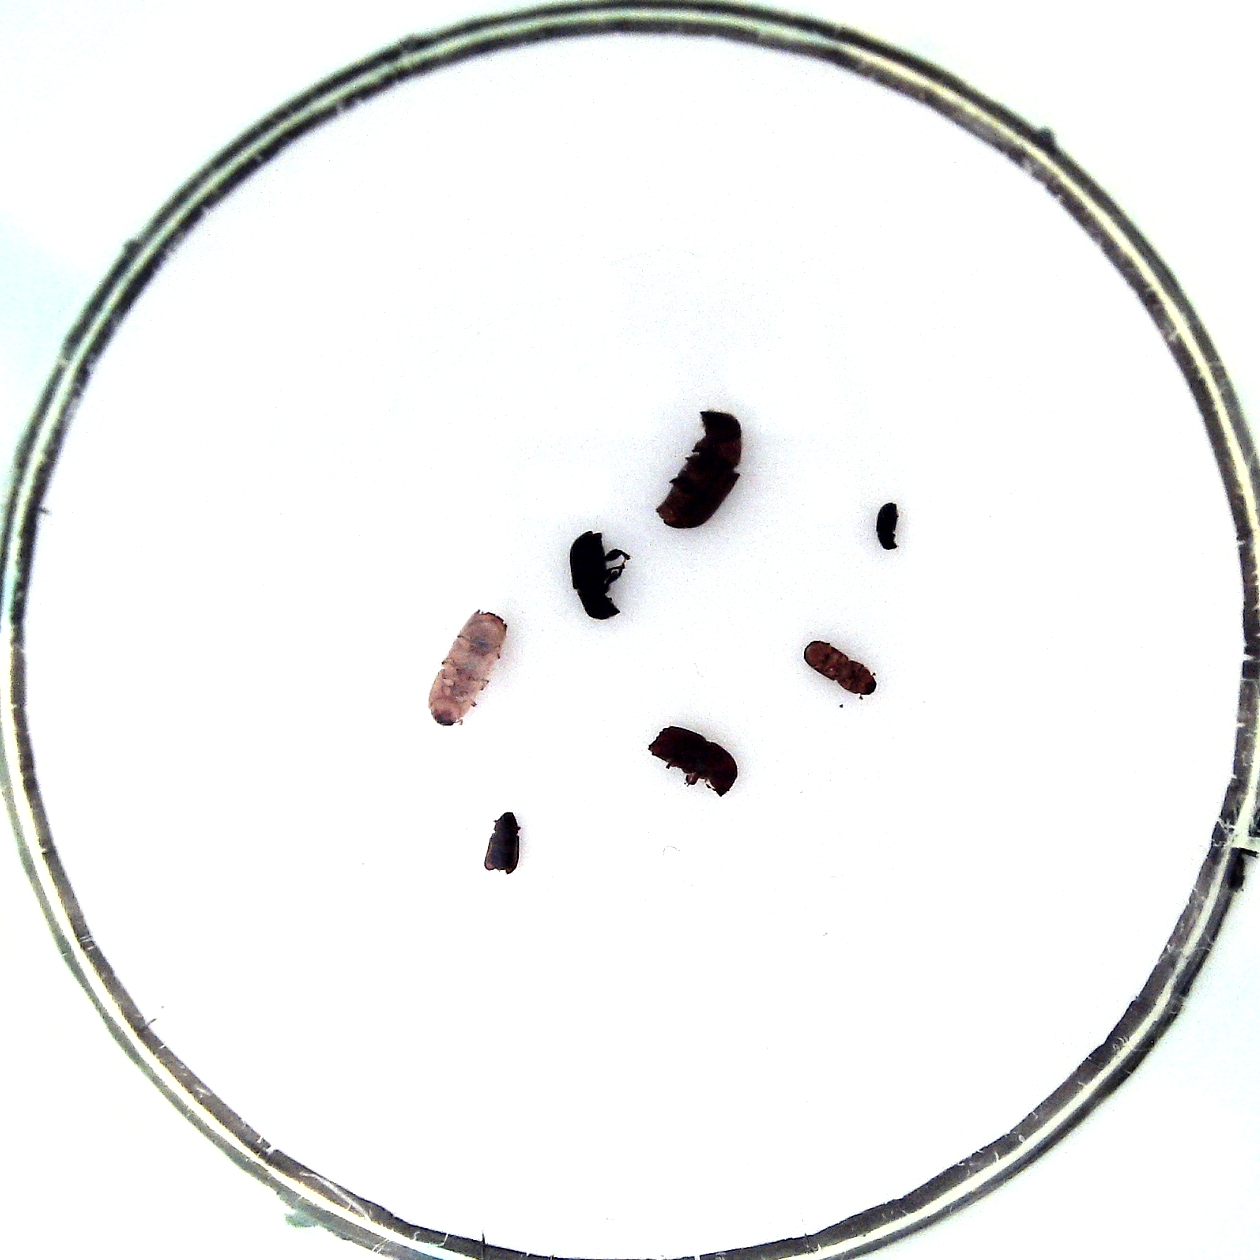Boerner: (428, 608, 509, 727)
Leconte: (655, 411, 743, 528)
acuminatus: (876, 503, 899, 550)
armandi: (570, 530, 620, 620)
coleoptera: (804, 640, 877, 695), (483, 811, 520, 873)
linnaeus: (648, 726, 738, 797)
